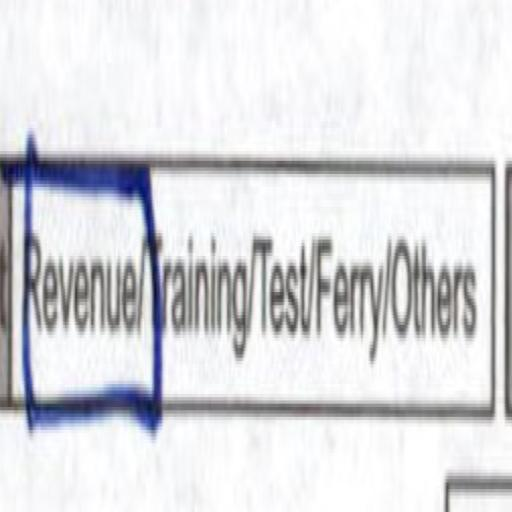check: (17, 102, 142, 476)
